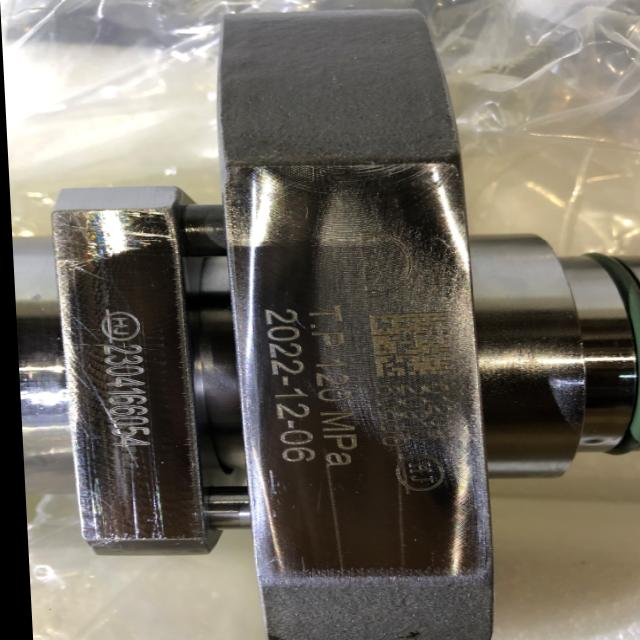dmc: (366, 312, 447, 377)
